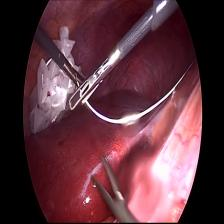Grasper: (68, 46, 109, 117), (88, 154, 130, 220), (70, 55, 86, 91)
Specimen Bag: (27, 25, 82, 145)
